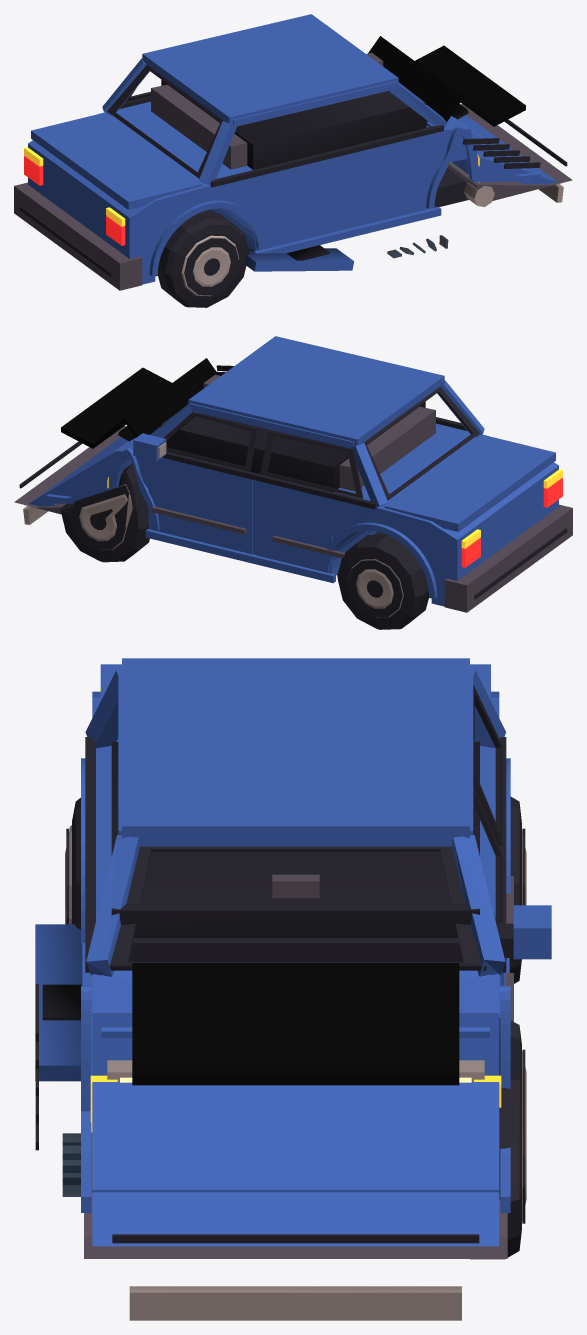
Rendered from model.wrecked.glb.
3 renders of one model, top to bottom at view 1: azimuth 30°, elevation 25°; view 2: azimuth 150°, elevation 25°; view 3: azimuth 270°, elevation 25°, orthographic. The views are drawn at different scales.
Visible parts, largest first — view 1: body_pal_policeBlue, body_pal_asphalt, exposedCabin, buckledHood, wheelRL_pal_uiDark, body_pal_uiDark, tornDoor, wheelRL_pal_sidewalk, lightsBrake_emi_sirenRed, exposedAxleHub, lightsBrake_emi_schoolBusYellow, doorScorch; view 2: body_pal_policeBlue, body_pal_asphalt, doorR_pal_policeBlue, exposedCabin, doorRearR_pal_policeBlue, buckledHood, wheelRR_pal_uiDark, body_pal_uiDark, wheelFR_pal_uiDark, wheelFR_pal_sidewalk, doorRearR_pal_uiDark, wheelRR_pal_sidewalk (+5 smaller); view 3: body_pal_policeBlue, buckledHood, exposedCabin, body_pal_uiDark, detachedBumper, body_pal_asphalt, tornDoor, wheelFR_pal_uiDark, doorR_pal_policeBlue, doorRearR_pal_uiDark, wheelRR_pal_uiDark, doorR_pal_uiDark (+3 smaller).
Boxes of the visible parts, box(x1,y1,x2,y2) form: body_pal_policeBlue: box(28, 14, 557, 284); body_pal_asphalt: box(14, 52, 572, 290); exposedCabin: box(161, 80, 426, 169); buckledHood: box(368, 36, 525, 126); wheelRL_pal_uiDark: box(157, 212, 249, 307); body_pal_uiDark: box(19, 64, 567, 277); tornDoor: box(244, 248, 354, 271); wheelRL_pal_sidewalk: box(181, 235, 239, 296); lightsBrake_emi_sirenRed: box(24, 156, 125, 245); exposedAxleHub: box(464, 182, 494, 206); lightsBrake_emi_schoolBusYellow: box(24, 147, 125, 226); doorScorch: box(287, 245, 329, 260); body_pal_policeBlue: box(29, 336, 558, 606); body_pal_asphalt: box(14, 374, 572, 612); doorR_pal_policeBlue: box(133, 433, 252, 554); exposedCabin: box(160, 402, 425, 491); doorRearR_pal_policeBlue: box(256, 480, 366, 573); buckledHood: box(61, 358, 218, 448); wheelRR_pal_uiDark: box(337, 534, 429, 629); body_pal_uiDark: box(19, 386, 567, 599); wheelFR_pal_uiDark: box(60, 463, 149, 562); wheelFR_pal_sidewalk: box(79, 484, 132, 549); doorRearR_pal_uiDark: box(260, 431, 363, 498); wheelRR_pal_sidewalk: box(348, 559, 403, 617); body_pal_policeBlue: box(81, 658, 510, 1246); buckledHood: box(132, 963, 459, 1085); exposedCabin: box(111, 741, 479, 937); body_pal_uiDark: box(85, 737, 506, 1243); detachedBumper: box(129, 1286, 461, 1320); body_pal_asphalt: box(84, 874, 507, 1258); tornDoor: box(35, 924, 82, 1081); wheelFR_pal_uiDark: box(470, 1017, 525, 1259); doorR_pal_policeBlue: box(500, 905, 551, 985); doorRearR_pal_uiDark: box(473, 685, 502, 846); wheelRR_pal_uiDark: box(509, 797, 525, 983); doorR_pal_uiDark: box(473, 785, 513, 957).
Bounding box in the file's own units: 4.46 × 1.64 × 2.18.
